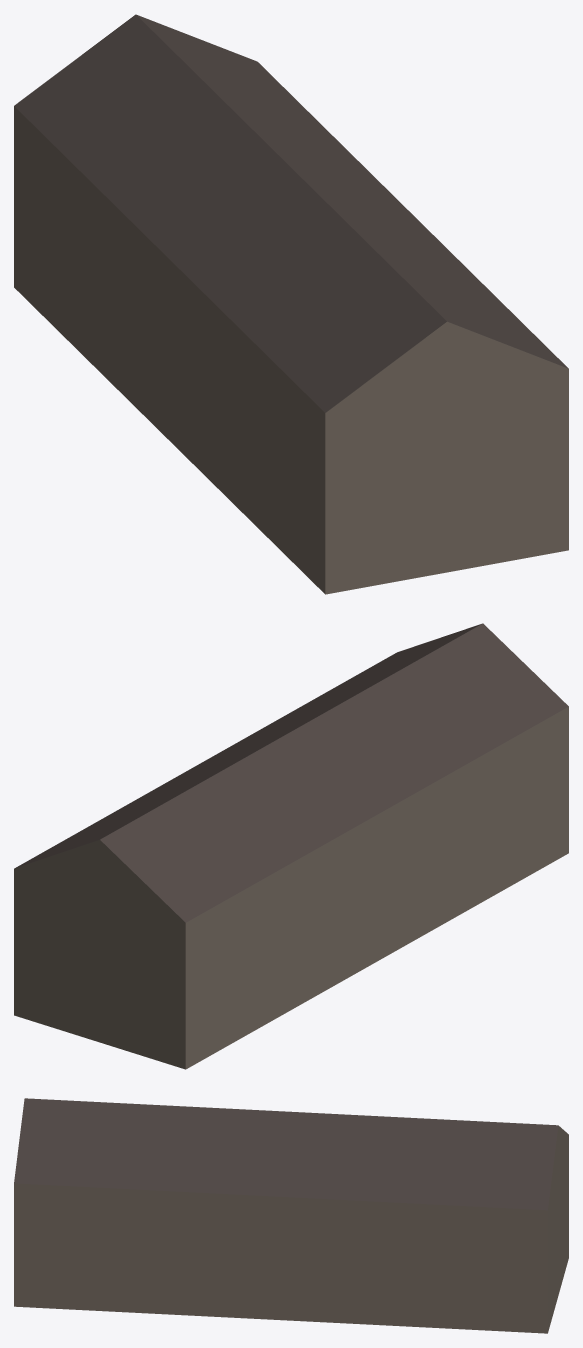
The picture shows the model from 3 angles, top to bottom: view 1: azimuth 30°, elevation 25°; view 2: azimuth 150°, elevation 25°; view 3: azimuth 270°, elevation 25°; orthographic projection. The views are drawn at different scales.
Visible parts, largest first — view 1: HP-w858824348; view 2: HP-w858824348; view 3: HP-w858824348.
Part boxes in pixels (left/top/right/bottom): HP-w858824348: left=14, top=14, right=568, bottom=594; HP-w858824348: left=14, top=623, right=568, bottom=1069; HP-w858824348: left=14, top=1098, right=568, bottom=1333.
Size of the model in its own units: 10.7 by 8.29 by 24.46.
